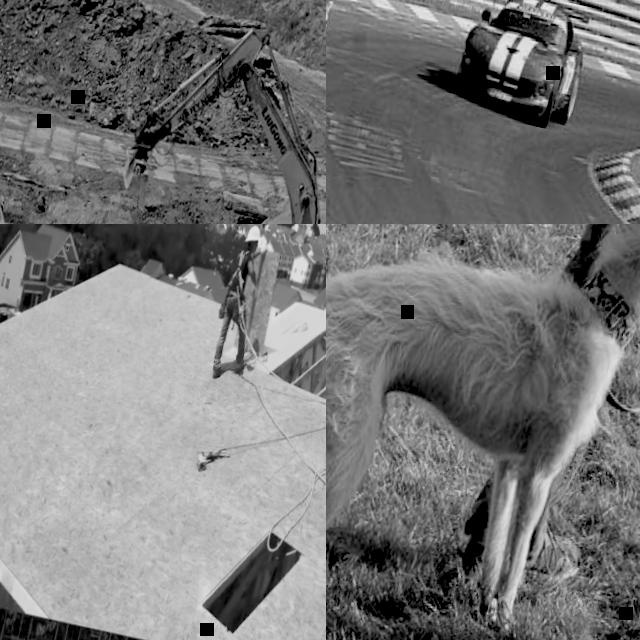Hardhat: (244, 224, 262, 246)
NO-Mask: (251, 244, 257, 253)
NO-Safety Vest: (229, 248, 252, 294)
Person: (434, 224, 640, 640), (208, 224, 274, 384)
machinery: (79, 4, 326, 224)
vehicle: (447, 0, 598, 133), (0, 303, 9, 329)
